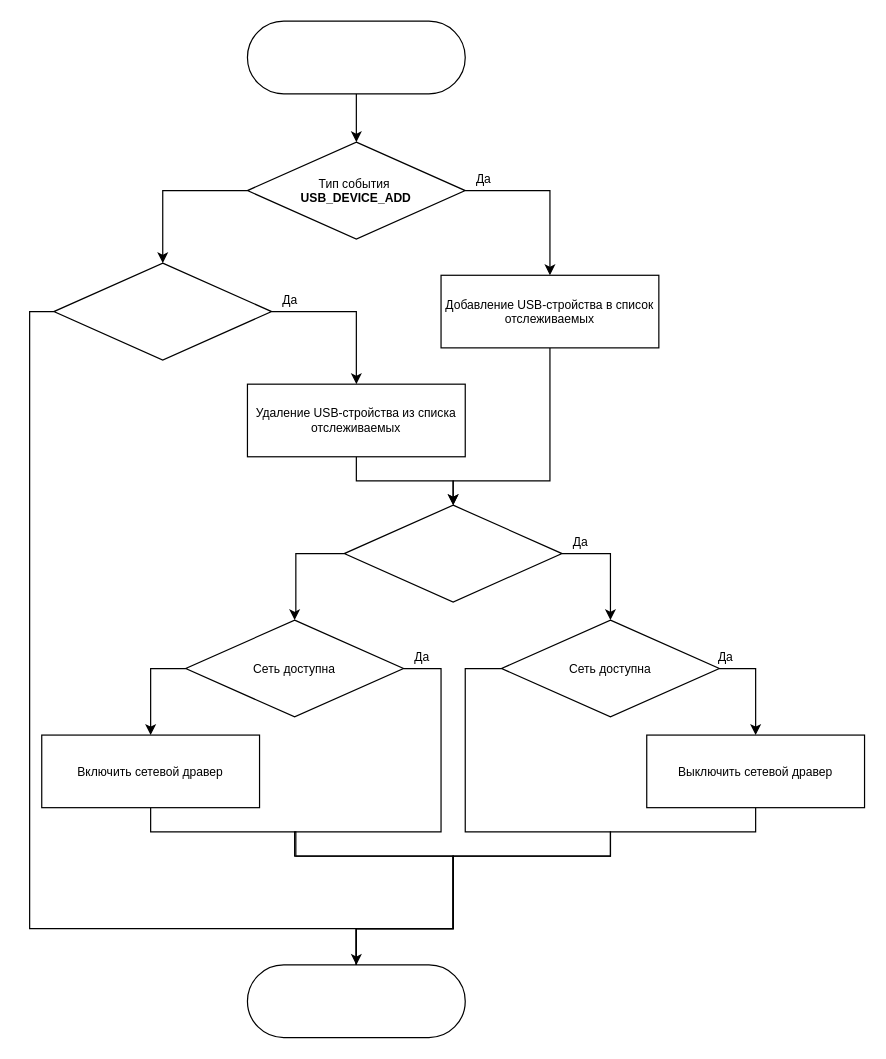
This 886x1059 diagram has some shape labels left out. The shapes that lost their labels are listed below. From the top down, each one's centre as x and y in pixels, then its label:
At point 355,57: "Начало".
At point 162,311: "Тип события USB_DEVICE_REMOVE".
At point 452,553: "Количетсво подключенных недопустимых устройств больше 0".
At point 355,1001: "Конец".
